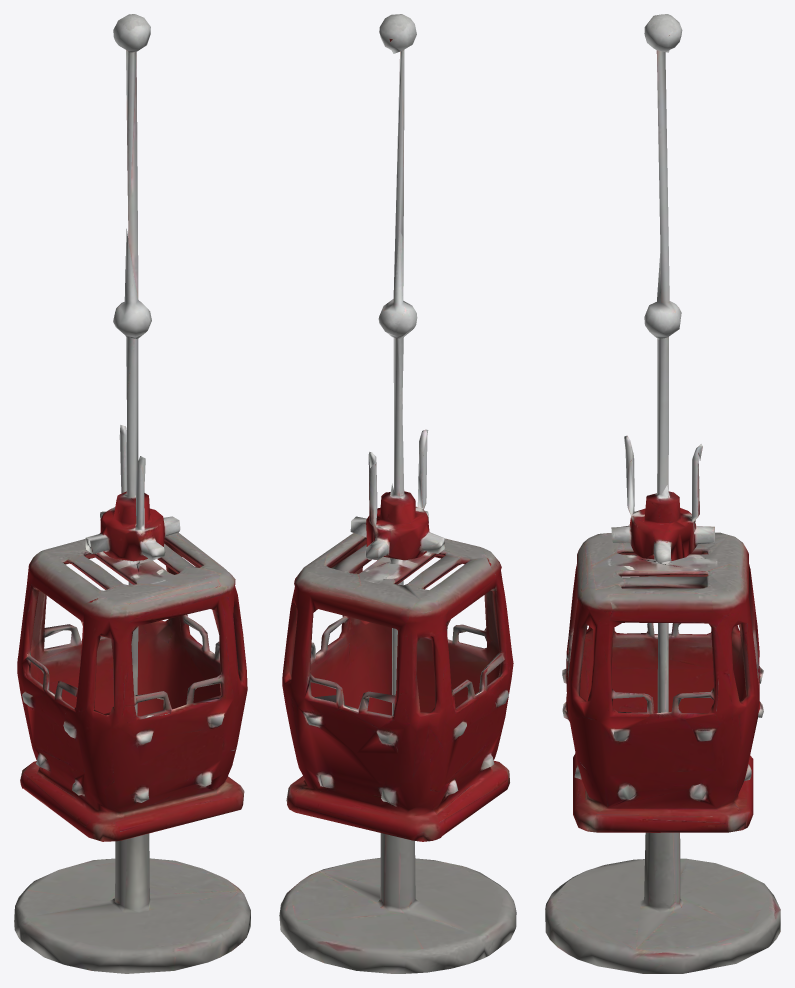
File: token-gondola.glb
The picture shows the model from 3 angles, left to right: view 1: azimuth 30°, elevation 25°; view 2: azimuth 150°, elevation 25°; view 3: azimuth 270°, elevation 25°; orthographic projection.
Bounding box in the file's own units: 0.4497 × 1.9 × 0.4462.
Materials: 1 (1 with a texture image).
